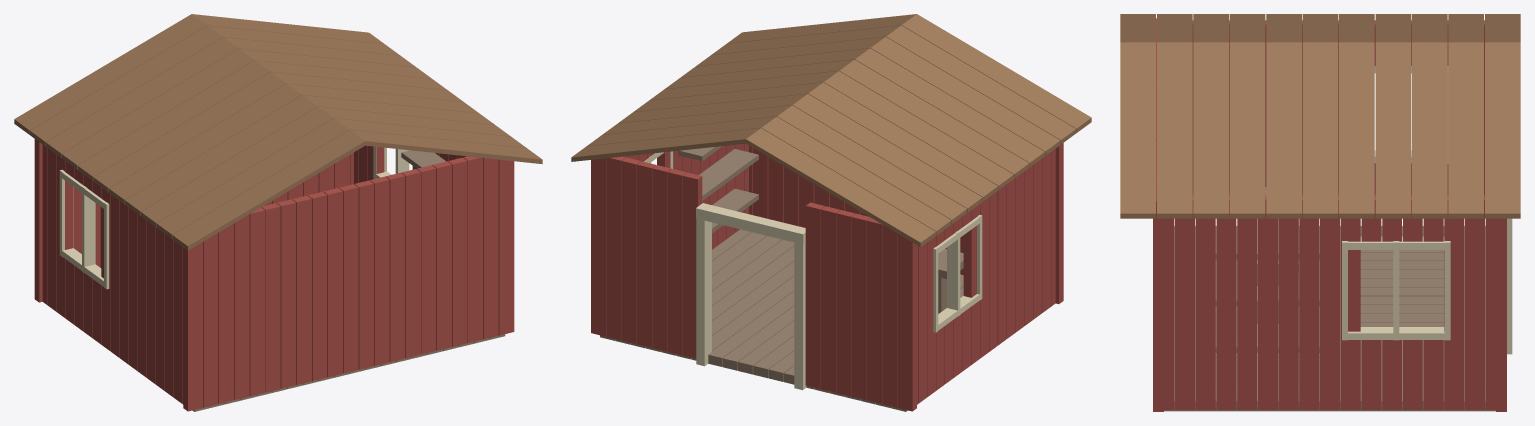
Rendered from RocksShop.fbx.
3 views of the same model, side by side, from view 1: azimuth 30°, elevation 25°; view 2: azimuth 150°, elevation 25°; view 3: azimuth 270°, elevation 25° (orthographic). The views are drawn at different scales.
Parts seen in each view (by area): view 1: RoofTile1_10, RoofTile1_4, RoofTile1_3, RoofTile1_8, RoofTile1_9, RoofTile1_5, RoofTile1_1, RoofTile1_2, RoofTile1_6, RoofTile1_7, RoofTile1_0, BackWall20 (+55 smaller); view 2: RoofTile1_0, RoofTile1_9, RoofTile1_4, RoofTile1_6, RoofTile1_7, RoofTile1_1, RoofTile1_3, RoofTile1_8, RoofTile1_5, RoofTile1_10, RoofTile1_2, FrontWall20 (+64 smaller); view 3: RoofTile-1_3, RoofTile-1_5, RoofTile-1_7, RoofTile-1_0, RoofTile-1_1, RoofTile-1_10, RoofTile-1_2, RoofTile-1_4, RoofTile-1_6, RoofTile-1_8, RoofTile-1_9, SideWall-1_9 (+49 smaller).
Boxes of the visible parts, x1=… form: RoofTile1_10: x1=172, y1=130, x2=365, y2=250; RoofTile1_4: x1=77, y1=60, x2=270, y2=180; RoofTile1_3: x1=61, y1=49, x2=254, y2=169; RoofTile1_8: x1=140, y1=106, x2=333, y2=227; RoofTile1_9: x1=156, y1=118, x2=349, y2=238; RoofTile1_5: x1=93, y1=72, x2=286, y2=192; RoofTile1_1: x1=30, y1=25, x2=222, y2=146; RoofTile1_2: x1=46, y1=37, x2=238, y2=157; RoofTile1_6: x1=109, y1=83, x2=301, y2=204; RoofTile1_7: x1=125, y1=95, x2=317, y2=215; RoofTile1_0: x1=14, y1=14, x2=206, y2=134; BackWall20: x1=183, y1=242, x2=202, y2=411; RoofTile1_0: x1=746, y1=128, x2=935, y2=246; RoofTile1_9: x1=886, y1=25, x2=1076, y2=144; RoofTile1_4: x1=808, y1=82, x2=998, y2=201; RoofTile1_6: x1=839, y1=59, x2=1029, y2=178; RoofTile1_7: x1=855, y1=48, x2=1044, y2=167; RoofTile1_1: x1=762, y1=117, x2=951, y2=235; RoofTile1_3: x1=792, y1=94, x2=982, y2=212; RoofTile1_8: x1=870, y1=37, x2=1060, y2=155; RoofTile1_5: x1=824, y1=71, x2=1013, y2=189; RoofTile1_10: x1=901, y1=14, x2=1091, y2=132; RoofTile1_2: x1=777, y1=105, x2=966, y2=223; FrontWall20: x1=897, y1=234, x2=916, y2=411; RoofTile-1_3: x1=1375, y1=42, x2=1411, y2=218; RoofTile-1_5: x1=1302, y1=42, x2=1338, y2=218; RoofTile-1_7: x1=1229, y1=42, x2=1265, y2=218; RoofTile-1_0: x1=1485, y1=42, x2=1520, y2=218; RoofTile-1_1: x1=1448, y1=42, x2=1483, y2=218; RoofTile-1_10: x1=1120, y1=42, x2=1155, y2=218; RoofTile-1_2: x1=1412, y1=42, x2=1447, y2=218; RoofTile-1_4: x1=1339, y1=42, x2=1374, y2=218; RoofTile-1_6: x1=1266, y1=42, x2=1301, y2=218; RoofTile-1_8: x1=1193, y1=42, x2=1228, y2=218; RoofTile-1_9: x1=1157, y1=42, x2=1192, y2=218; SideWall-1_9: x1=1299, y1=195, x2=1319, y2=409.
Bounding box in the file's own units: 5.7 × 3.75 × 4.83.
